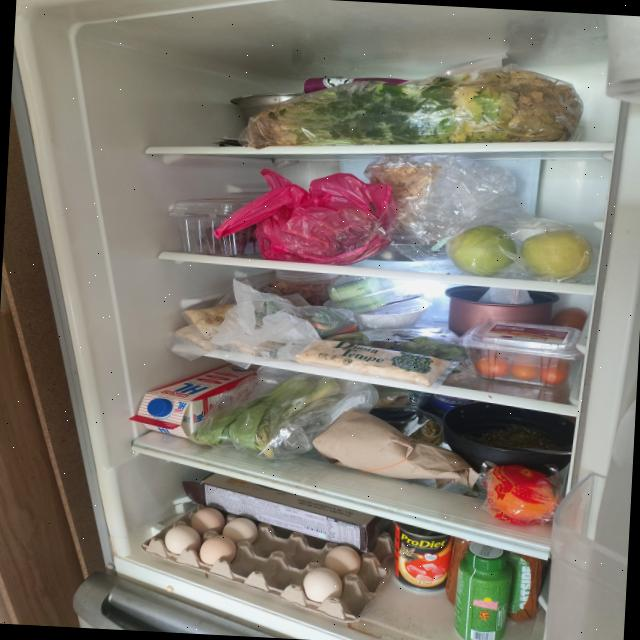apple: (520, 227, 594, 281), (446, 223, 518, 278)
egg: (137, 500, 396, 626)
leafy_greens: (246, 56, 585, 166)
orange: (483, 463, 560, 523)
pakchoy: (189, 367, 341, 462)
tempeh: (292, 338, 453, 390), (172, 300, 236, 354)
unknown_bag: (212, 165, 396, 268)
